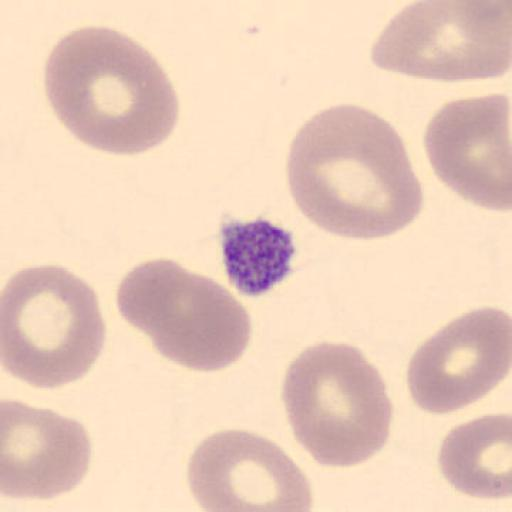Platelet: (218, 214, 300, 298)
RBC: (284, 102, 423, 242), (43, 23, 180, 159), (114, 257, 253, 373), (280, 339, 394, 471), (2, 263, 106, 391), (368, 1, 510, 84), (406, 305, 510, 416), (422, 91, 512, 214), (186, 427, 314, 512), (2, 398, 92, 502), (436, 411, 512, 502)
